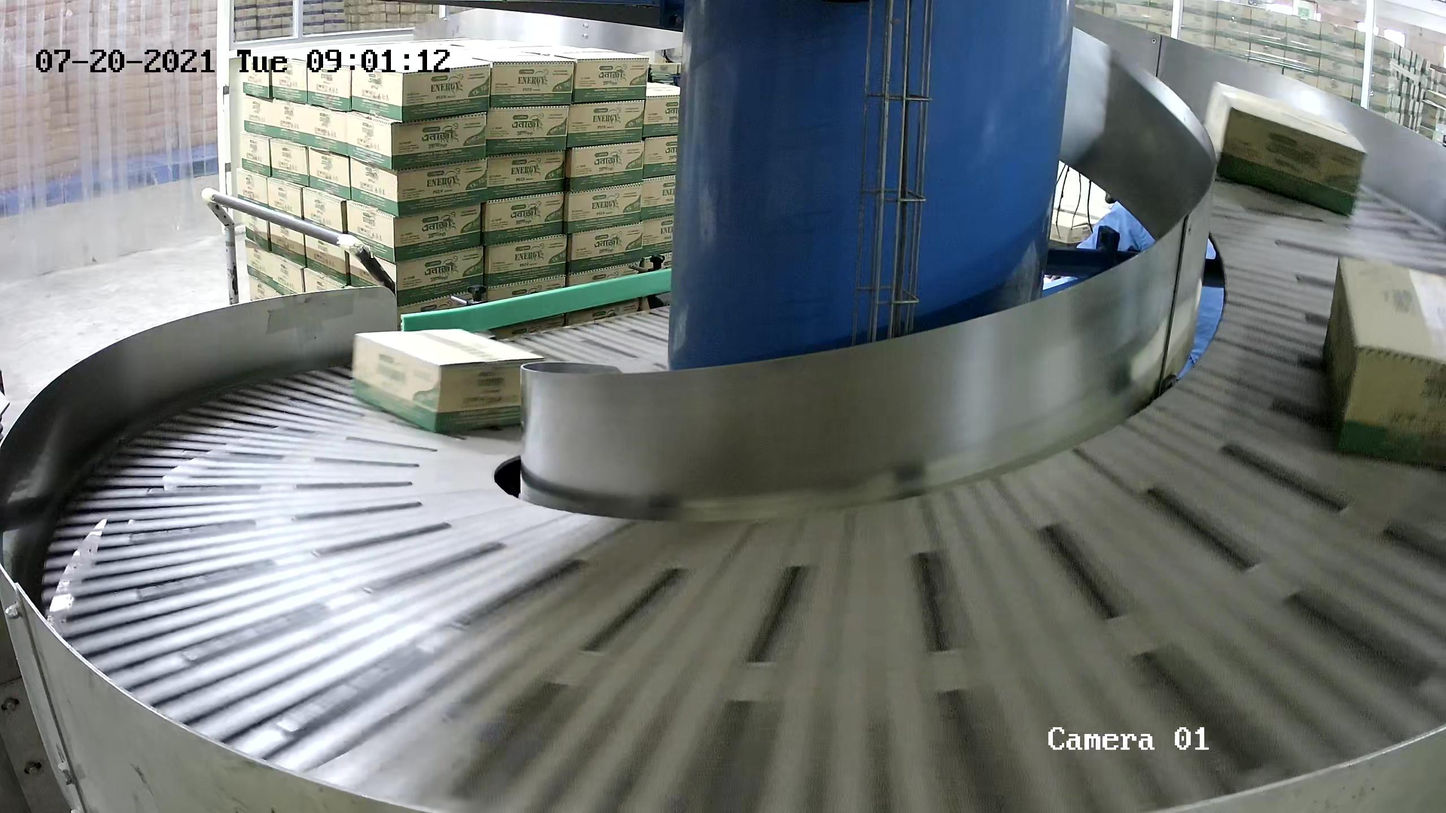Box: (1319, 253, 1446, 469), (1202, 79, 1368, 218), (350, 326, 546, 435)
